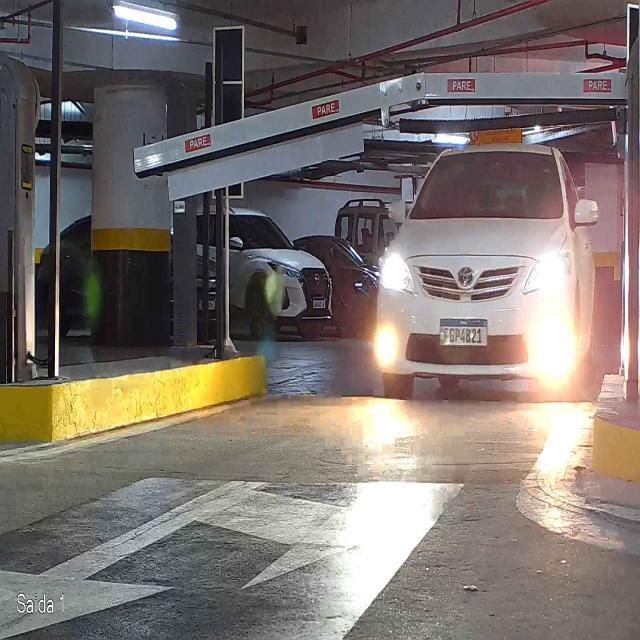mercosul_plate: (438, 316, 490, 348)
